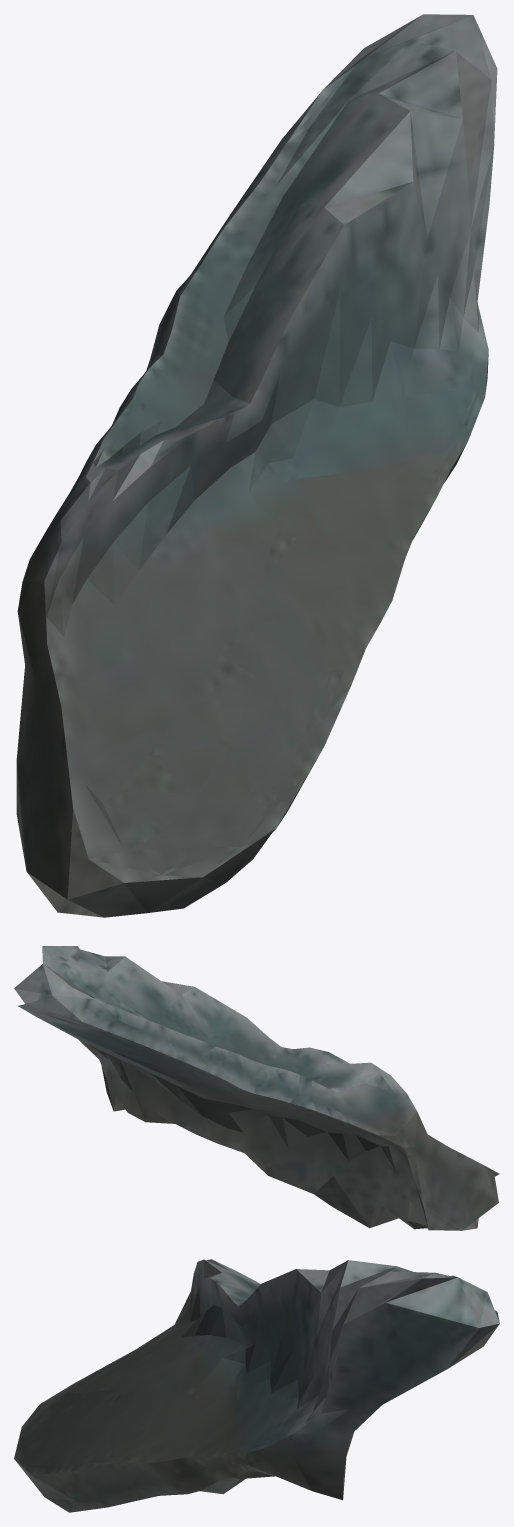
File: small-oxide-asteroid.glb
3 views of the same model, one above another, from view 1: azimuth 30°, elevation 25°; view 2: azimuth 150°, elevation 25°; view 3: azimuth 270°, elevation 25° (orthographic). The views are drawn at different scales.
Parts seen in each view (by area): view 1: body; view 2: body; view 3: body.
Part boxes in pixels (<box>): body: <box>16,14,497,917</box>; body: <box>14,946,499,1230</box>; body: <box>14,1259,499,1512</box>.
Size of the model in its own units: 1.42 by 1.15 by 1.22.
1 material, 1 textured.
